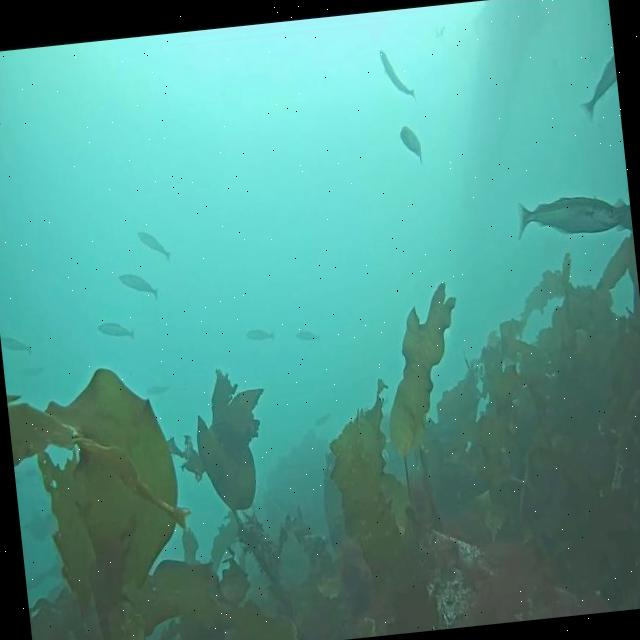fish: (512, 190, 622, 240), (576, 54, 621, 124), (377, 42, 416, 104), (118, 268, 158, 304), (136, 227, 170, 264), (398, 122, 423, 168), (94, 317, 136, 343), (1, 331, 32, 359), (246, 328, 274, 343), (296, 328, 320, 342)
